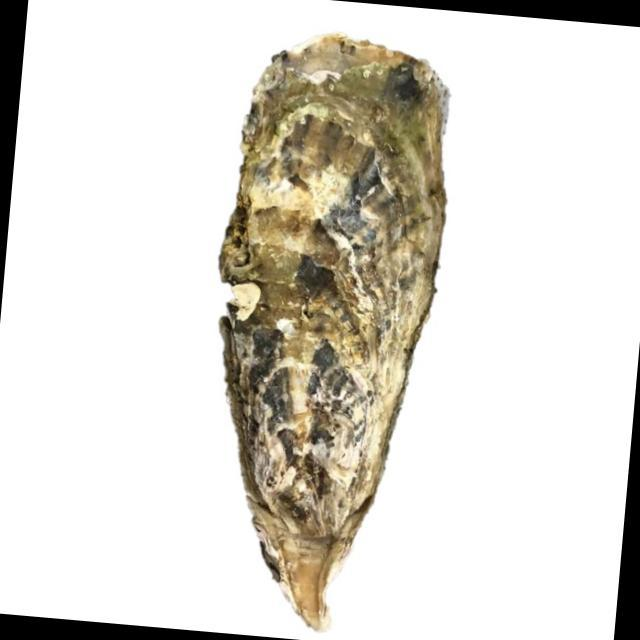Oyster- Indeterminate: (217, 34, 450, 634)
